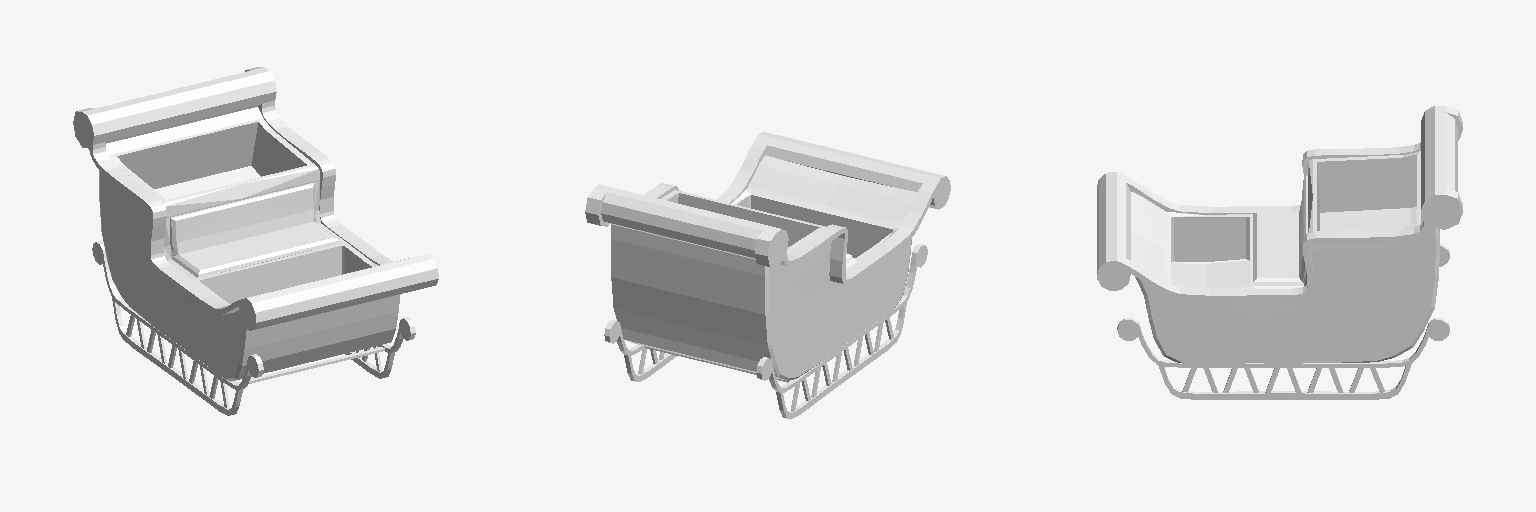
Rendered from SantasSleigh.obj.
3 renders of one model, left to right at view 1: azimuth 30°, elevation 25°; view 2: azimuth 150°, elevation 25°; view 3: azimuth 270°, elevation 25°, orthographic.
Parts seen in each view (by area): view 1: Handle1; view 2: Handle1; view 3: Handle1.
Part boxes in pixels (left/top/right/bottom): Handle1: left=73, top=67, right=438, bottom=415; Handle1: left=585, top=132, right=950, bottom=419; Handle1: left=1097, top=105, right=1462, bottom=399.
Bounding box in the file's own units: 2.53 × 2.8 × 4.39.